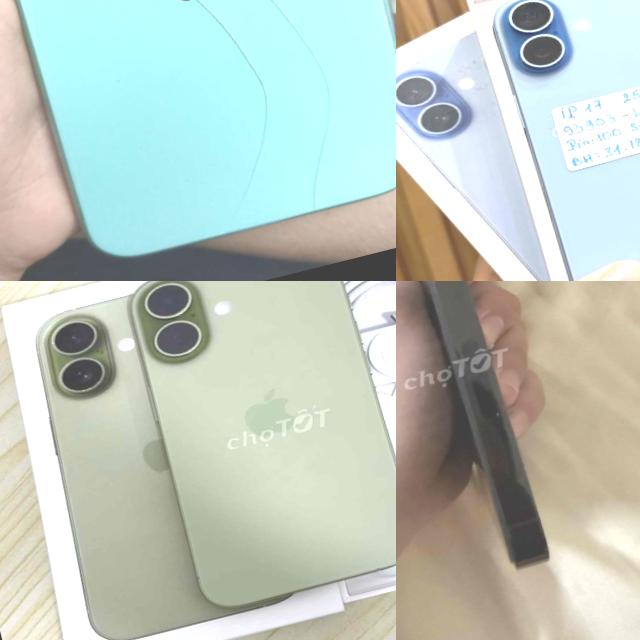gen_11: (0, 0, 396, 281)
gen_14: (396, 281, 585, 589)
gen_17: (124, 281, 396, 624), (486, 0, 640, 281)
